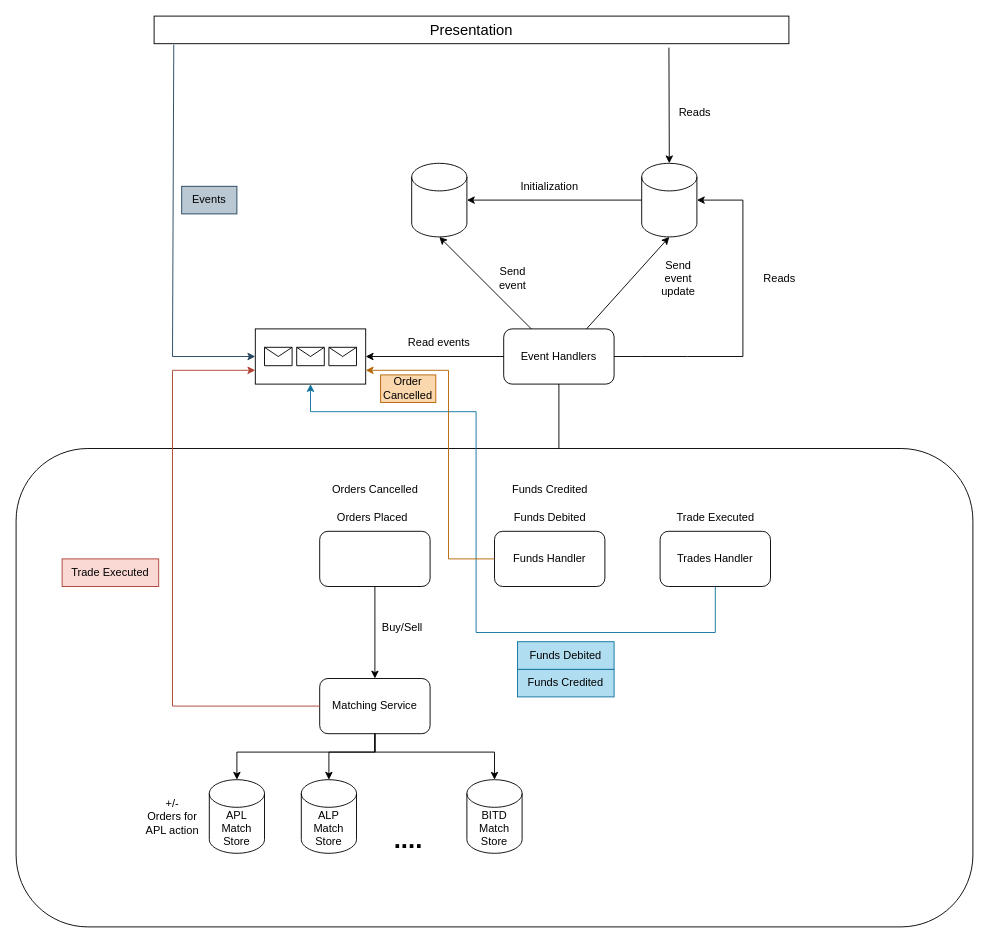
Some shapes in this 989 by 943 pixel diagram are drawn without their labels. The shapes that lost their labels are listed below. From the top down, each one's box as (x1, y1, x2, y2) in pixels, then its label:
(411, 162, 467, 237): Event Store
(641, 162, 697, 237): Read-Only Store
(319, 530, 430, 586): Orders Handler
